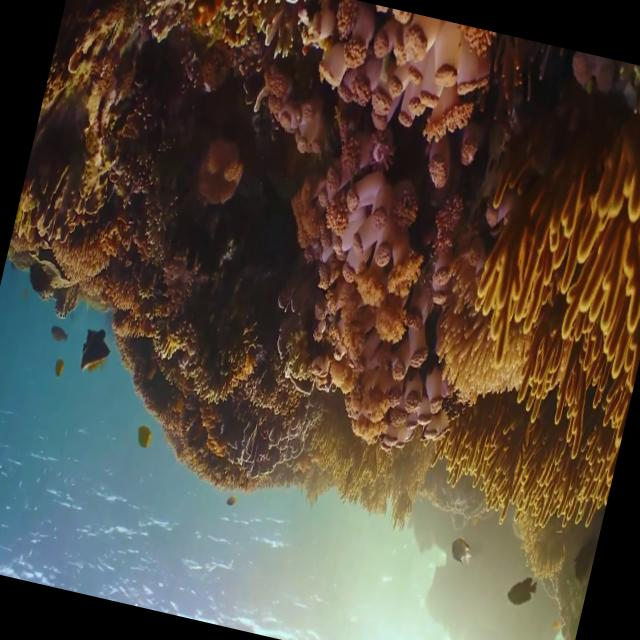fish: (506, 567, 538, 612), (448, 535, 474, 566)
